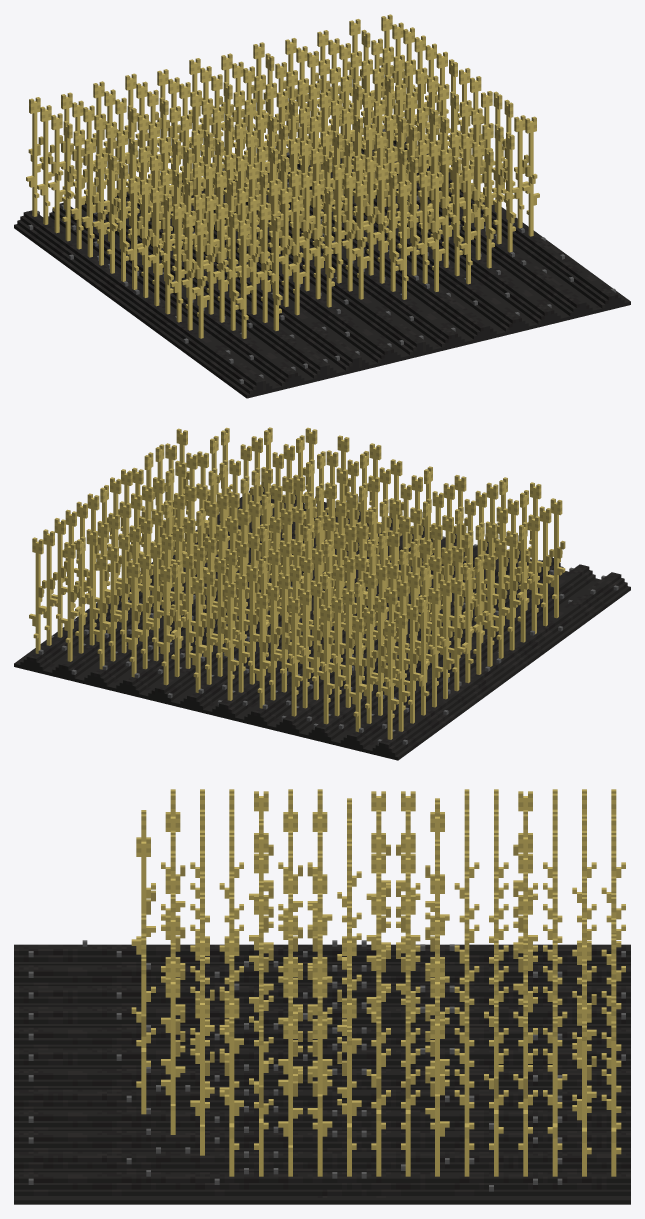
File: WheatField2.obj
3 renders of one model, top to bottom at view 1: azimuth 30°, elevation 25°; view 2: azimuth 150°, elevation 25°; view 3: azimuth 270°, elevation 25°, orthographic. The views are drawn at different scales.
Size of the model in its own units: 12 by 3.9 by 12.6.
Materials: 1 (1 with a texture image).
